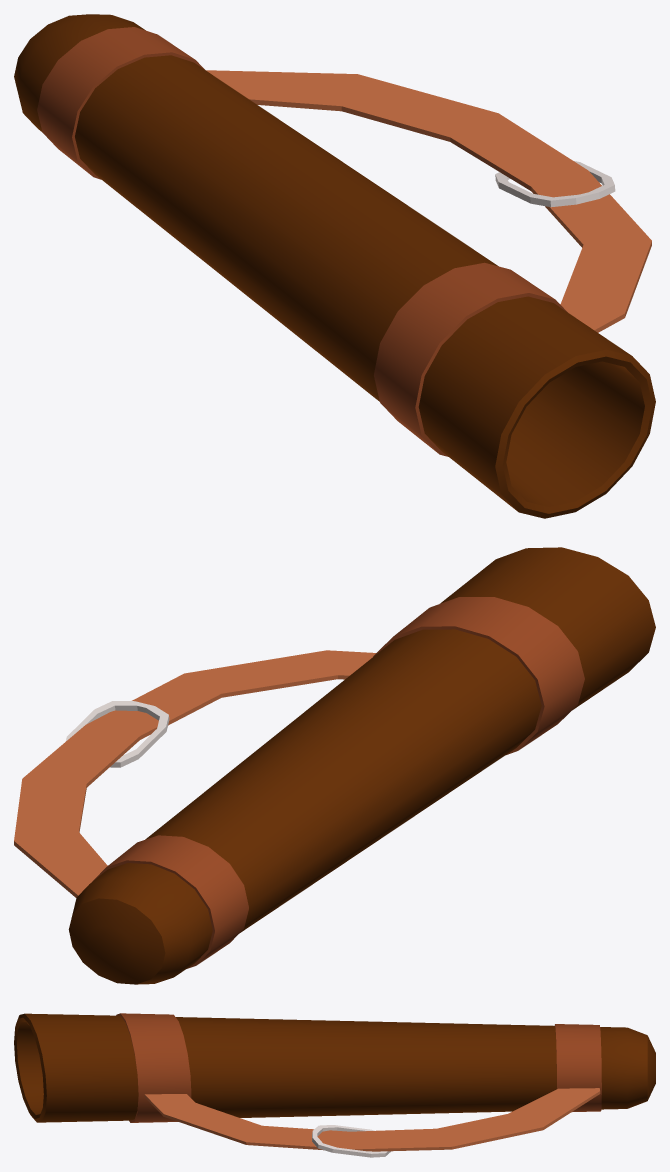
File: Quiver.fbx
3 renders of one model, top to bottom at view 1: azimuth 30°, elevation 25°; view 2: azimuth 150°, elevation 25°; view 3: azimuth 270°, elevation 25°, orthographic. The views are drawn at different scales.
Visible parts, largest first — view 1: Quiver; view 2: Quiver; view 3: Quiver.
Boxes of the visible parts, <box> form: Quiver: <box>14,14,655,518</box>; Quiver: <box>14,547,655,984</box>; Quiver: <box>14,1013,655,1157</box>.
Bounding box in the file's own units: 47.23 × 18.79 × 114.
